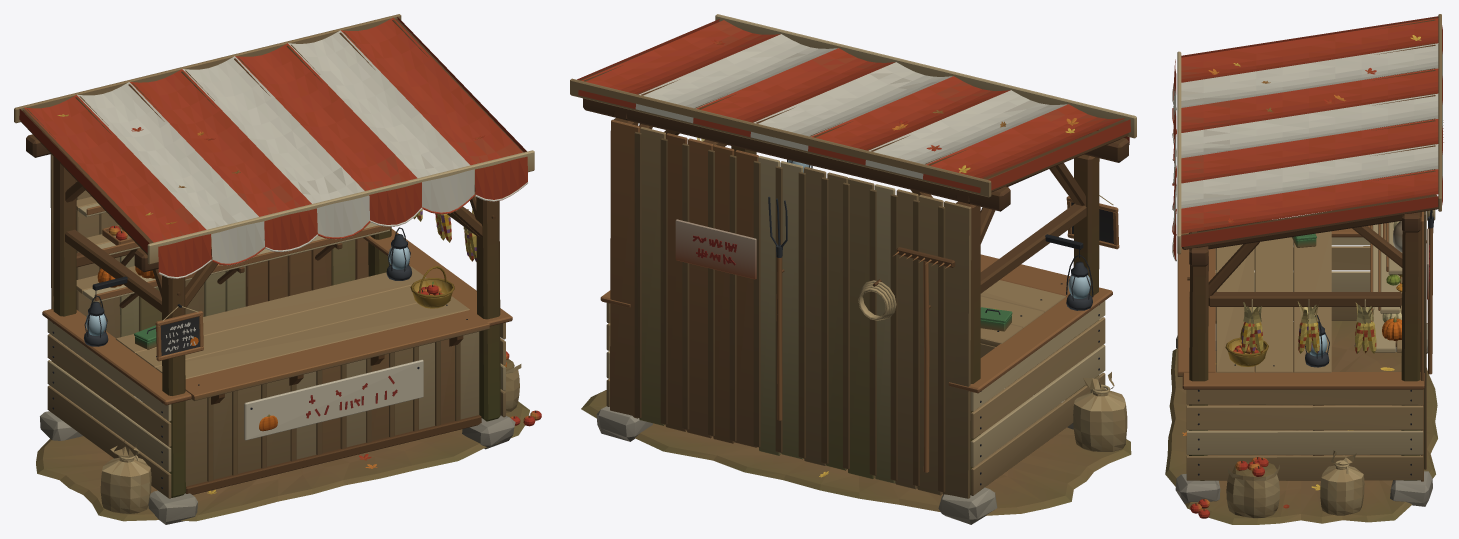
The model's file is farm-stand.glb.
The picture shows the model from 3 angles, left to right: view 1: azimuth 30°, elevation 25°; view 2: azimuth 150°, elevation 25°; view 3: azimuth 270°, elevation 25°; orthographic projection. The views are drawn at different scales.
Visible parts, largest first — view 1: farm_stand; view 2: farm_stand; view 3: farm_stand.
Boxes of the visible parts, <box> form: farm_stand: <box>14,14,541,524</box>; farm_stand: <box>570,14,1136,524</box>; farm_stand: <box>1165,14,1443,524</box>.
Size of the model in its own units: 3.65 by 2.62 by 2.08.
